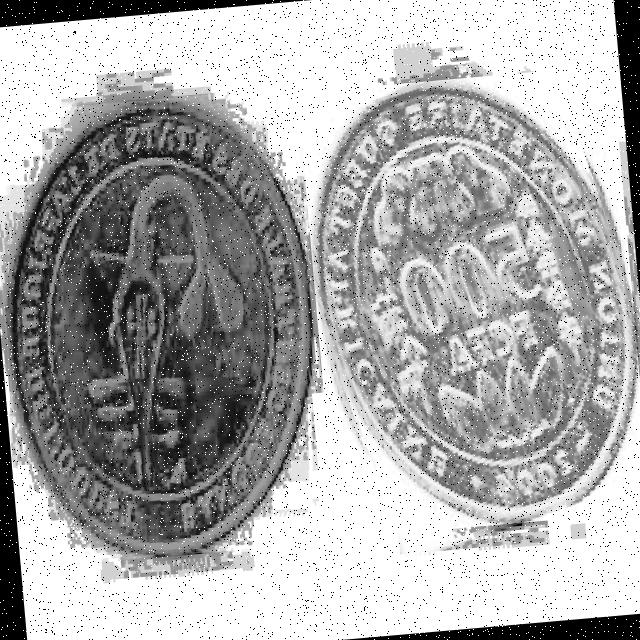teemeer: (314, 80, 636, 523), (8, 100, 309, 554)
